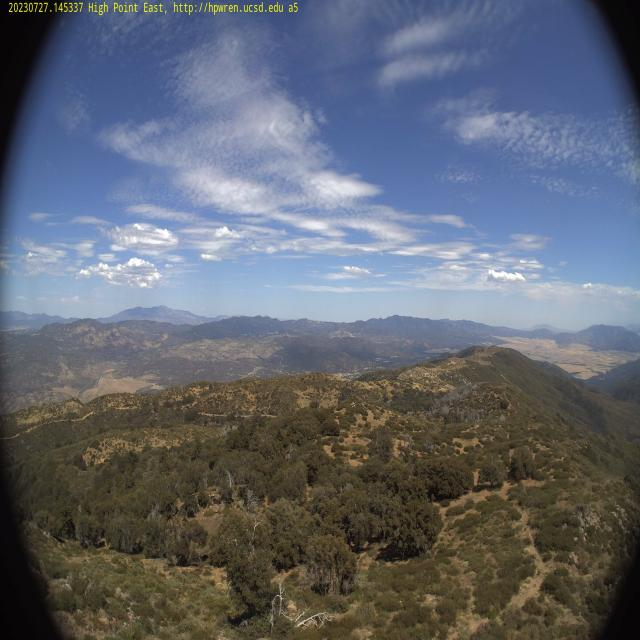smoke: (24, 288, 49, 337)
